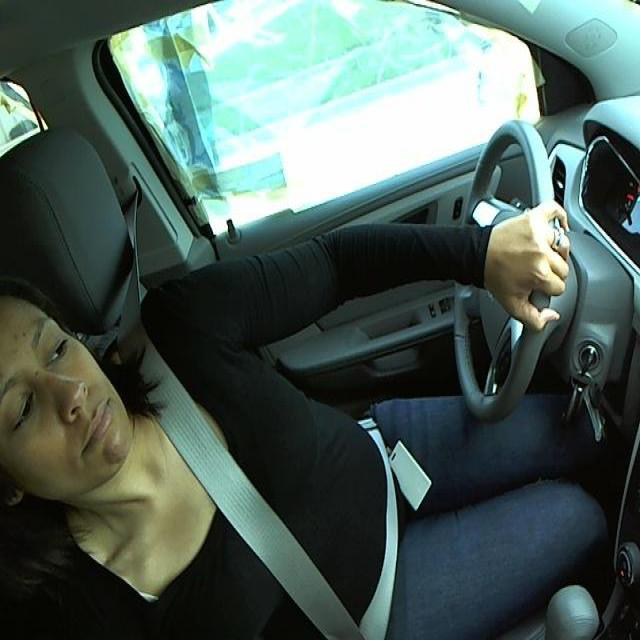seatbelt: (124, 194, 404, 638)
